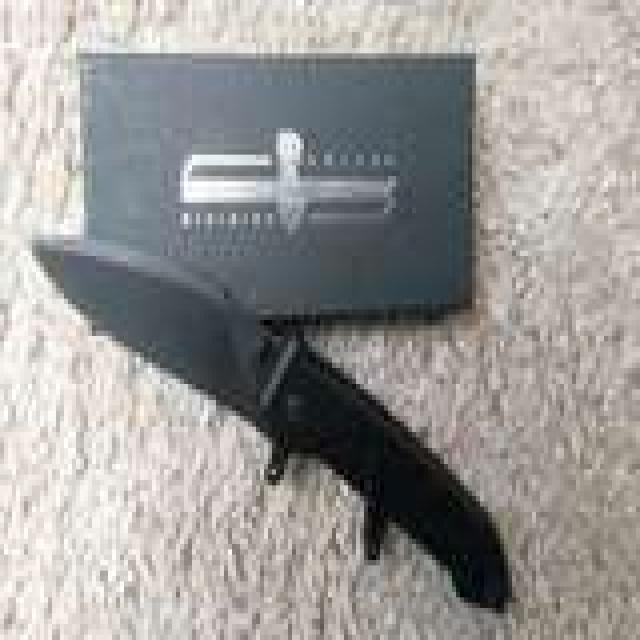Knife: (21, 212, 512, 610)
